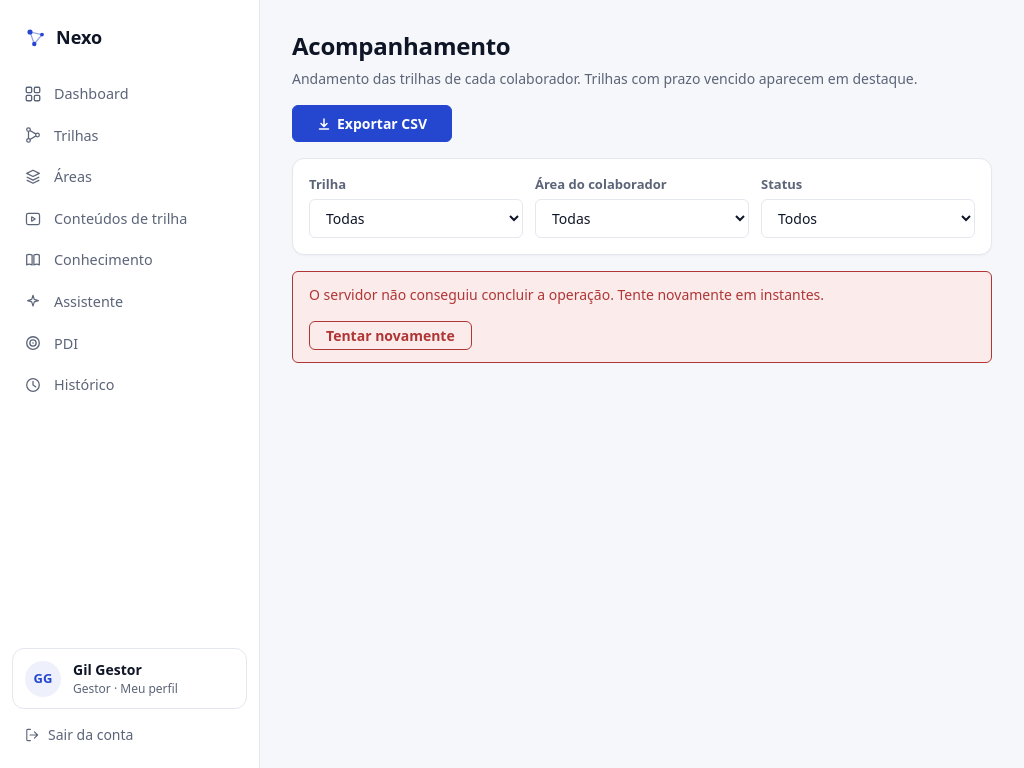
AcompanhamentoPage › mostra erro amigável e tenta de novo
Expected: the message shows "O servidor não conseguiu concluir a operação.", [309,284,824,304]
Click the button "Tentar novamente": (390, 335) [309,320,472,350]
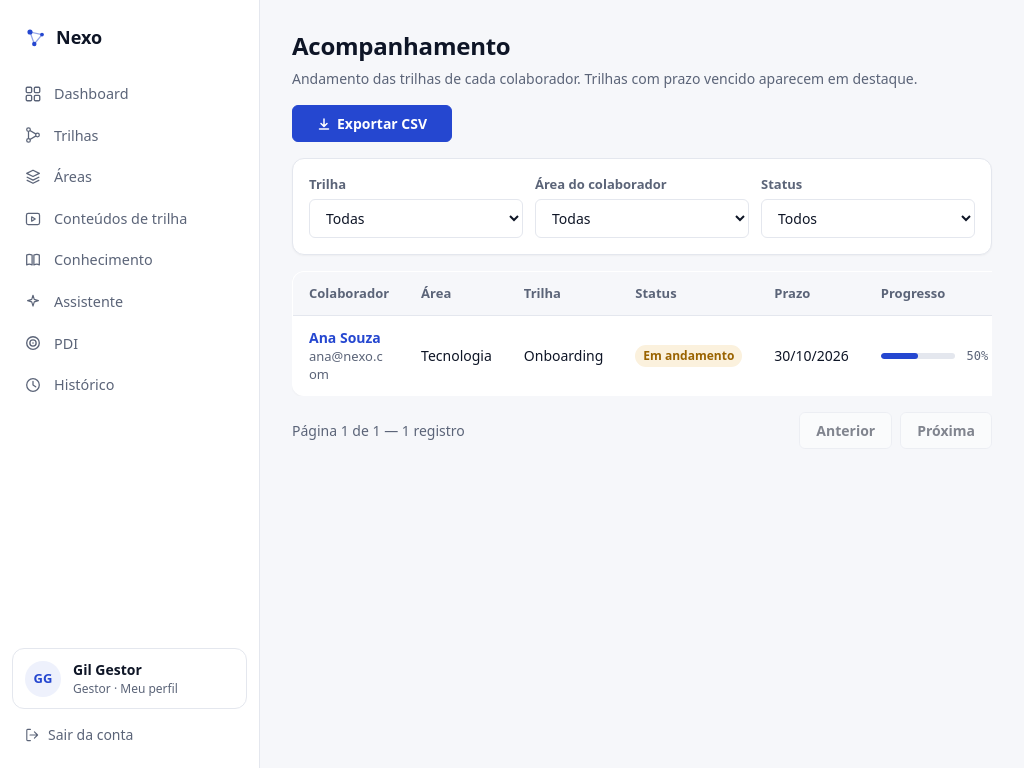
Expected: the table named "Andamento das trilhas por colaborador" is shown, [292,270,992,396]
